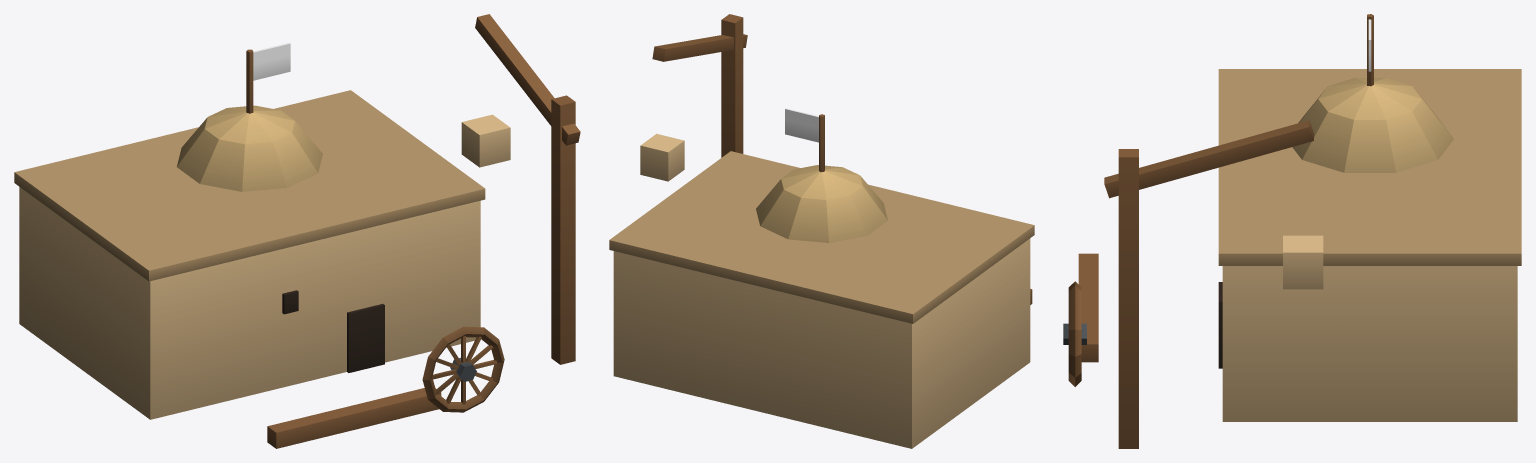
Rendered from WAR_MA.glb.
3 views of the same model, side by side, from view 1: azimuth 30°, elevation 25°; view 2: azimuth 150°, elevation 25°; view 3: azimuth 270°, elevation 25° (orthographic). The views are drawn at different scales.
Parts seen in each view (by area): view 1: Body, Wheel_parts, Flag; view 2: Body, Flag; view 3: Body, Wheel_parts.
Part boxes in pixels (<box>): Body: <box>14,14,580,448</box>; Wheel_parts: <box>422,326,504,412</box>; Flag: <box>253,42,290,80</box>; Body: <box>609,14,1034,448</box>; Flag: <box>785,108,818,142</box>; Body: <box>1078,14,1521,448</box>; Wheel_parts: <box>1063,281,1086,386</box>.
Bounding box in the file's own units: 3.78 × 2.69 × 3.42.
Materials: 1 (1 with a texture image).
